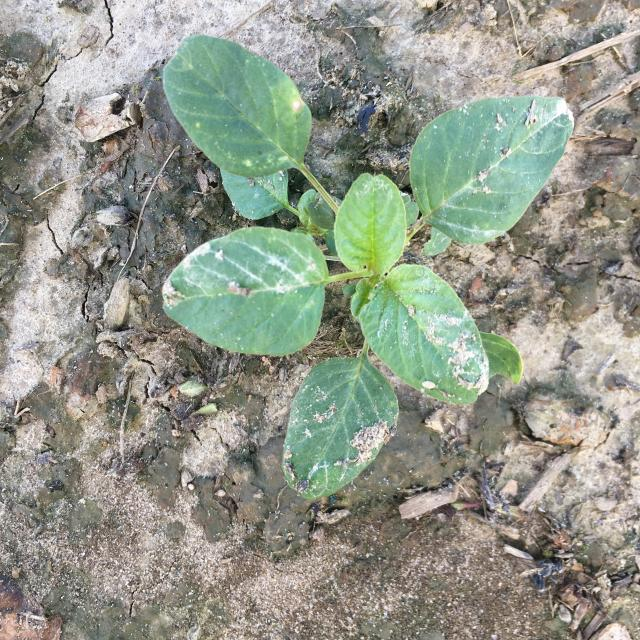PalmerAmaranth: (162, 35, 574, 500)
